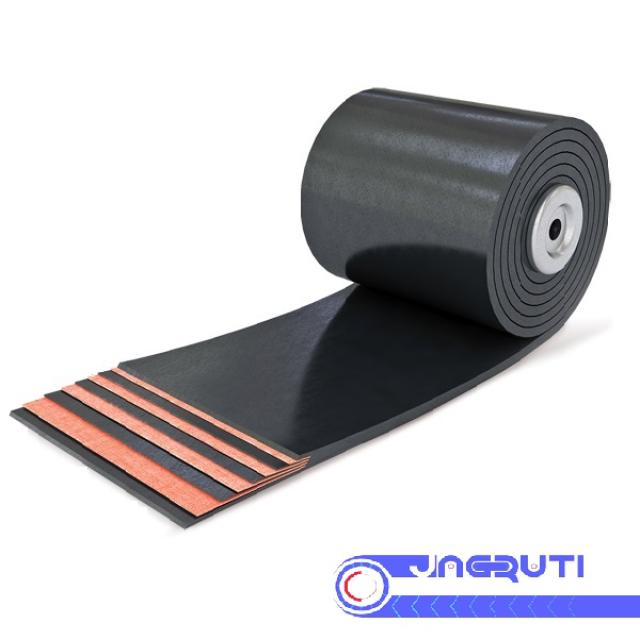conveyor: (35, 80, 616, 548)
